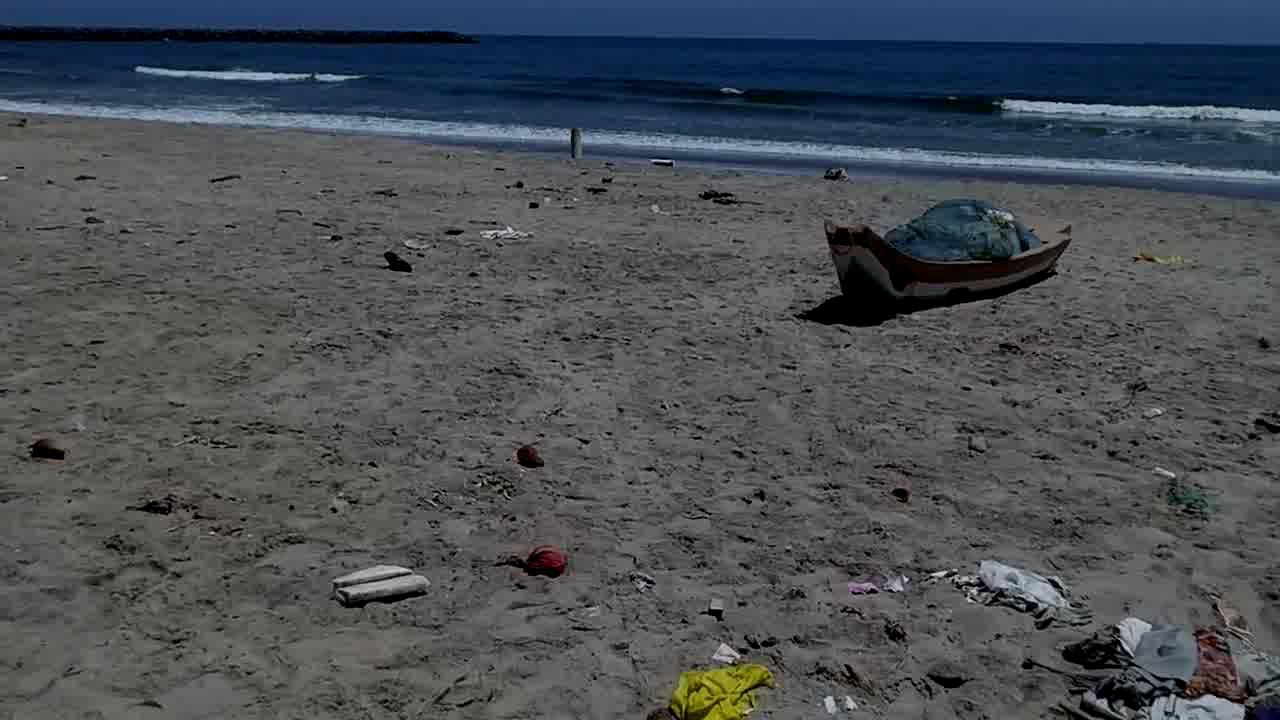large collection of objects: (816, 202, 1068, 314), (385, 250, 412, 272), (31, 440, 61, 458)
obj: (1023, 609, 1279, 719), (962, 561, 1074, 620), (665, 663, 780, 719), (328, 566, 430, 604), (491, 549, 573, 583), (518, 446, 547, 465), (572, 128, 582, 158)
sand/background: (0, 0, 1279, 202)
